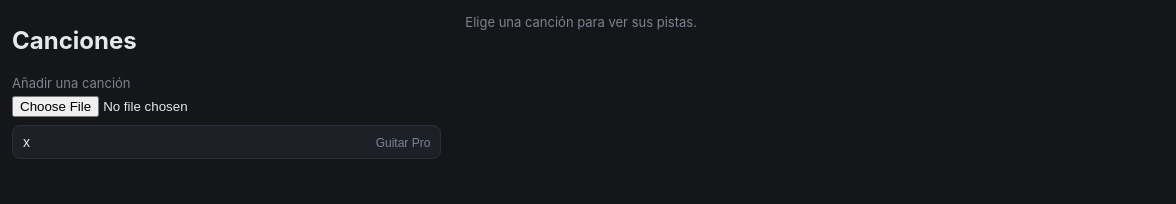
Canciones › una cancion que no declara afinacion si se puede tocar
This screenshot has width=1176, height=204.
Later steps or results of the test are not shown.
Click the text "x". click: [26, 142]
box: [23,134,30,150]
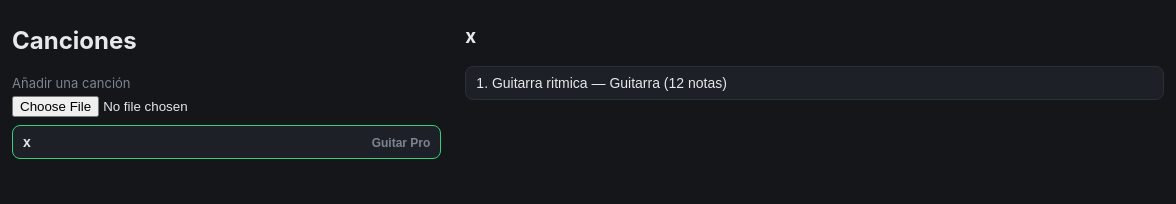
Click the button "1. Guitarra ritmica — Guitarra (12 notas)". click: [540, 83]
box: [465,66,1164,100]
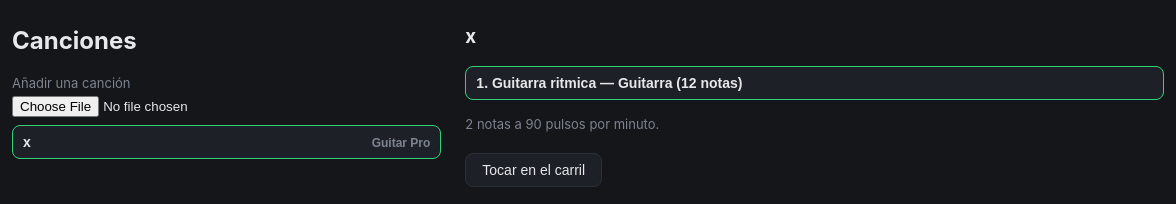
Now the button "Tocar en el carril" is enabled, box [465,153,602,187]
